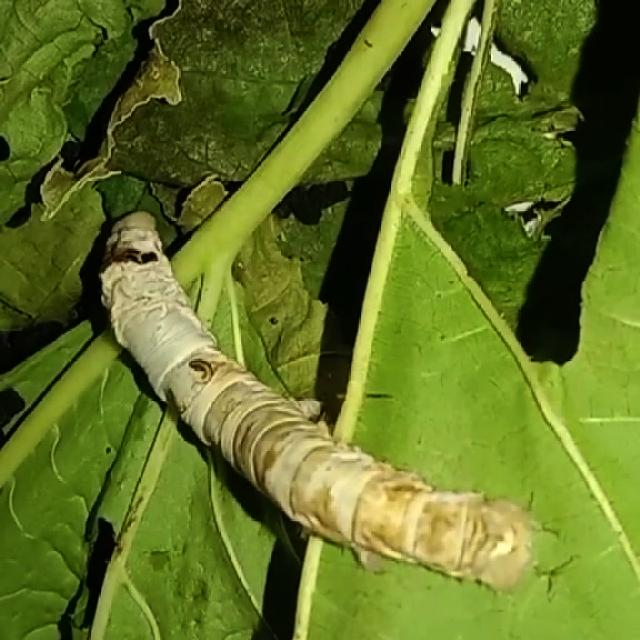Grasserie: (71, 184, 558, 616)
